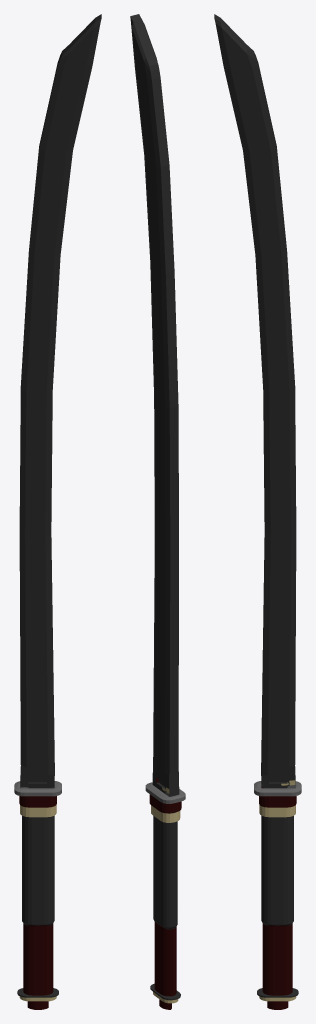
The model's file is GP PRJ Liuyedao sword.fbx.
3 views of the same model, side by side, from view 1: azimuth 90°, elevation 25°; view 2: azimuth 210°, elevation 25°; view 3: azimuth 270°, elevation 25° (orthographic). The views are drawn at different scales.
Parts seen in each view (by area): view 1: Cube.003, Cube, Cube.002; view 2: Cube.003, Cube, Cube.002; view 3: Cube.003, Cube, Cube.002.
Part boxes in pixels (left/top/right/bottom): Cube.003: left=19, top=14, right=101, bottom=775; Cube: left=14, top=781, right=61, bottom=1009; Cube.002: left=20, top=765, right=54, bottom=788; Cube.003: left=130, top=14, right=178, bottom=774; Cube: left=145, top=782, right=185, bottom=1009; Cube.002: left=152, top=772, right=179, bottom=796; Cube.003: left=214, top=14, right=296, bottom=775; Cube: left=254, top=781, right=301, bottom=1009; Cube.002: left=261, top=765, right=295, bottom=788.
Bounding box in the file's own units: 13.72 × 528 × 42.06.
4 materials, 4 textured.
